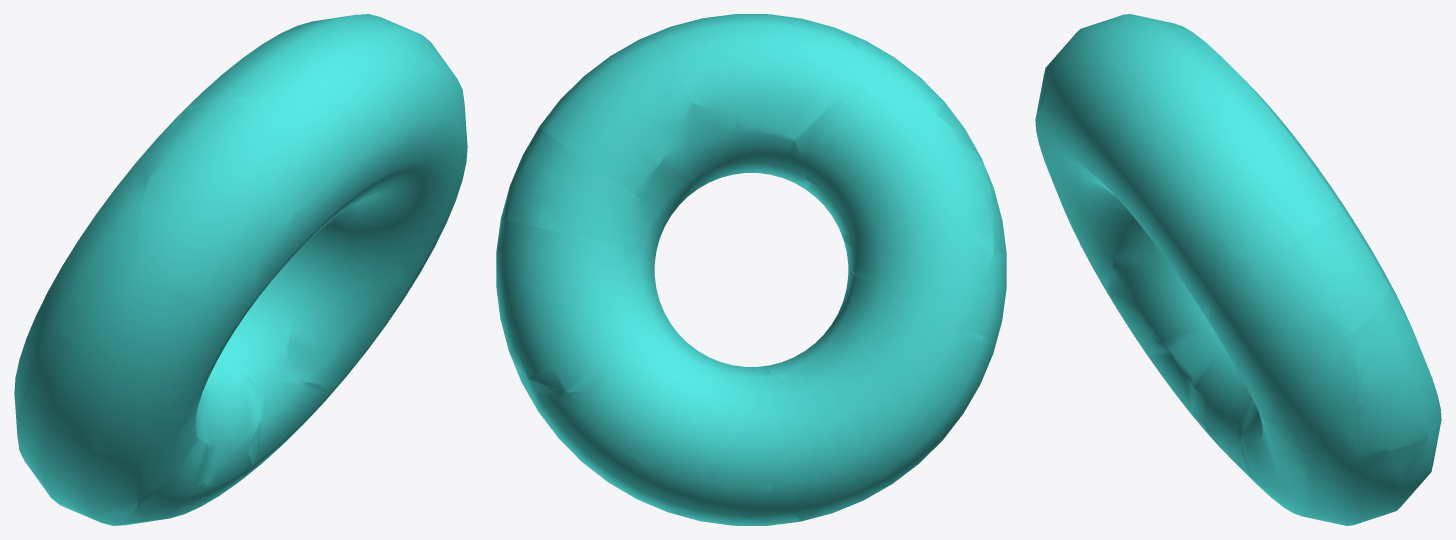
3 views of the same model, side by side, from view 1: azimuth 30°, elevation 25°; view 2: azimuth 150°, elevation 25°; view 3: azimuth 270°, elevation 25° (orthographic). The views are drawn at different scales.
Parts seen in each view (by area): view 1: Torus, Torus_cell.016, Torus_cell.011, Torus_cell.004, Torus_cell.002, Torus_cell.019, Torus_cell.014, Torus_cell.008, Torus_cell.021, Torus_cell.007, Torus_cell, Torus_cell.001 (+2 smaller); view 2: Torus, Torus_cell.021, Torus_cell.004, Torus_cell.005, Torus_cell.009, Torus_cell.013, Torus_cell.010, Torus_cell.002, Torus_cell.011, Torus_cell.016, Torus_cell.017, Torus_cell.023; view 3: Torus, Torus_cell.004, Torus_cell.009, Torus_cell.012, Torus_cell.005, Torus_cell.022, Torus_cell.010, Torus_cell.017, Torus_cell.014, Torus_cell.007, Torus_cell, Torus_cell.019 (+3 smaller).
Part boxes in pixels (x1,y1,x2,y2): Torus: (14, 14, 467, 525); Torus_cell.016: (24, 272, 249, 454); Torus_cell.011: (136, 100, 307, 303); Torus_cell.004: (187, 14, 416, 121); Torus_cell.002: (14, 354, 149, 525); Torus_cell.019: (285, 275, 412, 387); Torus_cell.014: (201, 362, 264, 475); Torus_cell.008: (216, 266, 295, 391); Torus_cell.021: (23, 109, 185, 357); Torus_cell.007: (114, 432, 208, 525); Torus_cell: (243, 374, 337, 478); Torus_cell.001: (118, 448, 251, 525); Torus: (496, 17, 1006, 525); Torus_cell.021: (795, 85, 993, 338); Torus_cell.004: (648, 14, 861, 139); Torus_cell.005: (496, 219, 631, 392); Torus_cell.009: (540, 37, 692, 196); Torus_cell.013: (636, 104, 820, 227); Torus_cell.010: (503, 127, 639, 244); Torus_cell.002: (884, 329, 991, 487); Torus_cell.011: (851, 34, 983, 162); Torus_cell.016: (963, 172, 1006, 332); Torus_cell.017: (510, 355, 621, 442); Torus_cell.023: (796, 429, 889, 521); Torus: (1037, 14, 1441, 525); Torus_cell.004: (1076, 14, 1267, 131); Torus_cell.009: (1190, 95, 1344, 264); Torus_cell.012: (1210, 259, 1358, 456); Torus_cell.005: (1353, 272, 1440, 450); Torus_cell.022: (1110, 215, 1220, 375); Torus_cell.010: (1261, 207, 1389, 332); Torus_cell.017: (1294, 418, 1441, 525); Torus_cell.014: (1192, 341, 1255, 447); Torus_cell.007: (1107, 291, 1206, 426); Torus_cell: (1239, 418, 1346, 525); Torus_cell.019: (1258, 411, 1319, 490).
Bounding box in the file's own units: 2.73 × 2.71 × 2.04.
